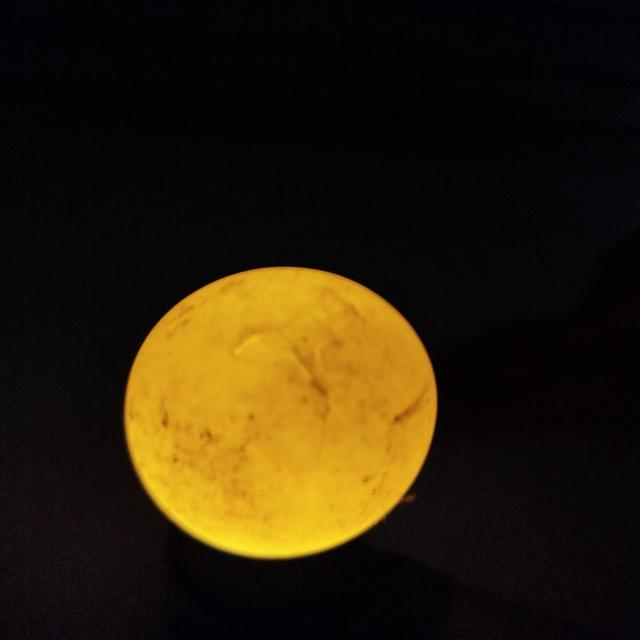Rachadura: (230, 286, 368, 418)
